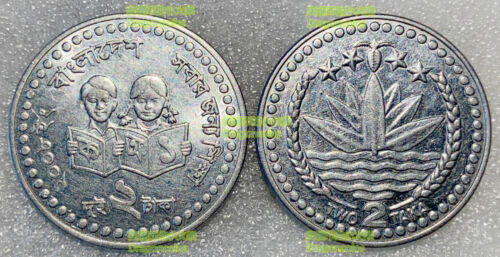5 taka coin: (9, 12, 249, 248), (255, 14, 494, 248)
